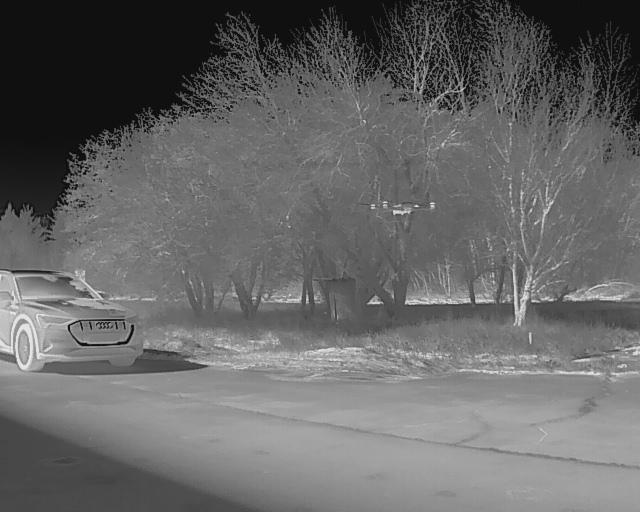drone: (356, 189, 444, 231)
